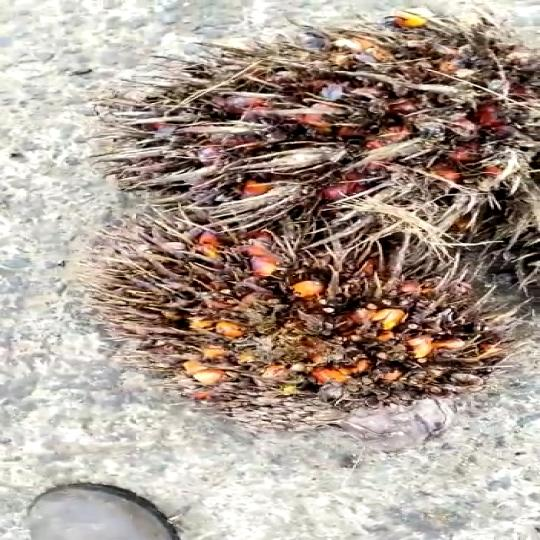terlalu masak: (114, 14, 540, 250), (90, 219, 516, 408)
